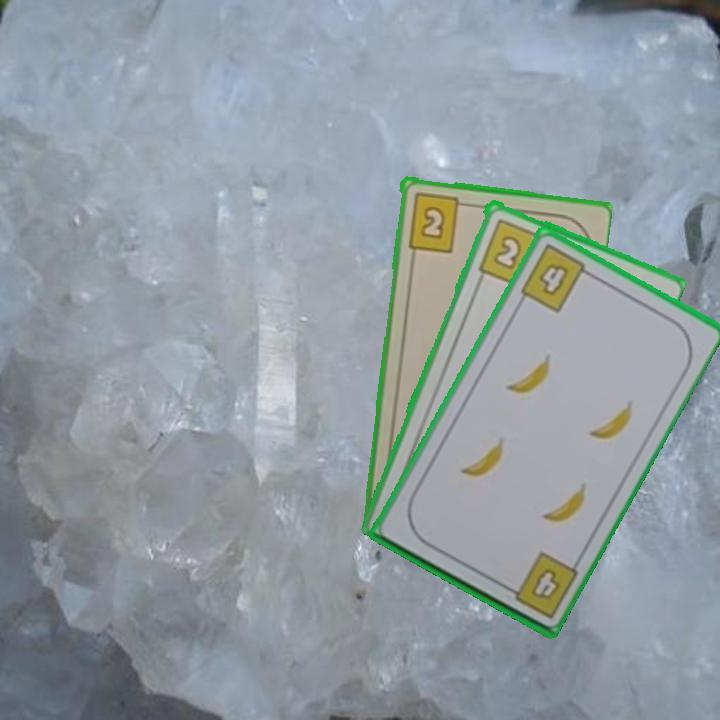2b: (474, 214, 550, 288), (404, 189, 471, 255)
4b: (516, 240, 596, 316), (499, 550, 580, 621)
